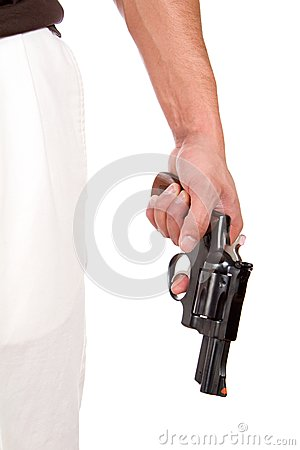gun: (133, 175, 261, 408)
